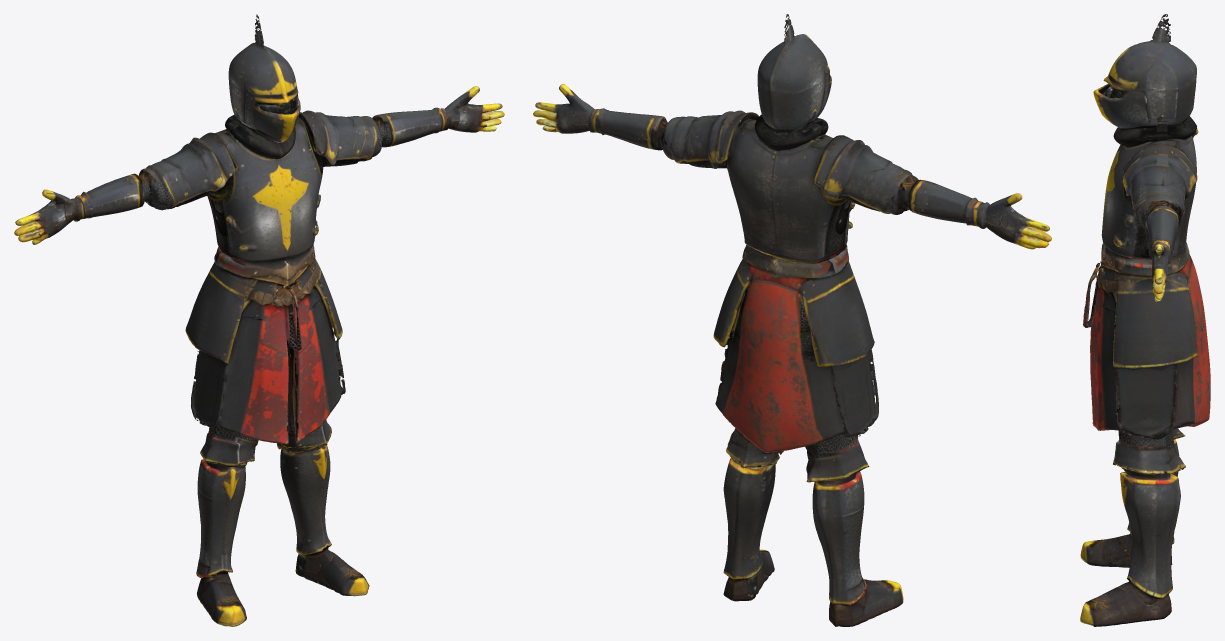
Rendered from nickpanek-black-knight-1689.glb.
3 views of the same model, side by side, from view 1: azimuth 30°, elevation 25°; view 2: azimuth 150°, elevation 25°; view 3: azimuth 270°, elevation 25° (orthographic). The views are drawn at different scales.
Size of the model in its own units: 1.81 by 2 by 0.4118.
1 material, 1 textured.
